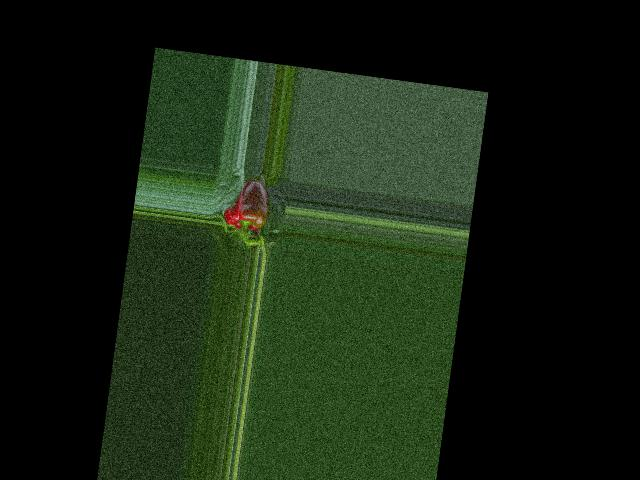bell_pepper: (219, 172, 278, 240)
